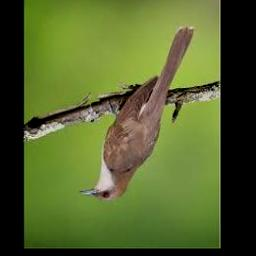Cuckoo: (79, 28, 194, 201)
